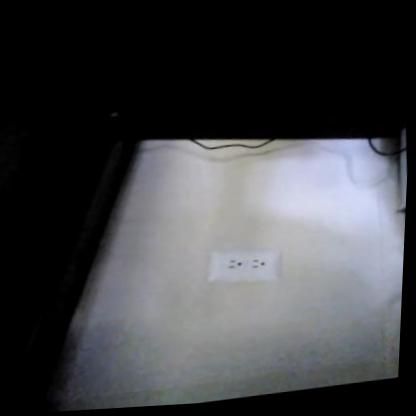OUTLET: (207, 243, 281, 285)
